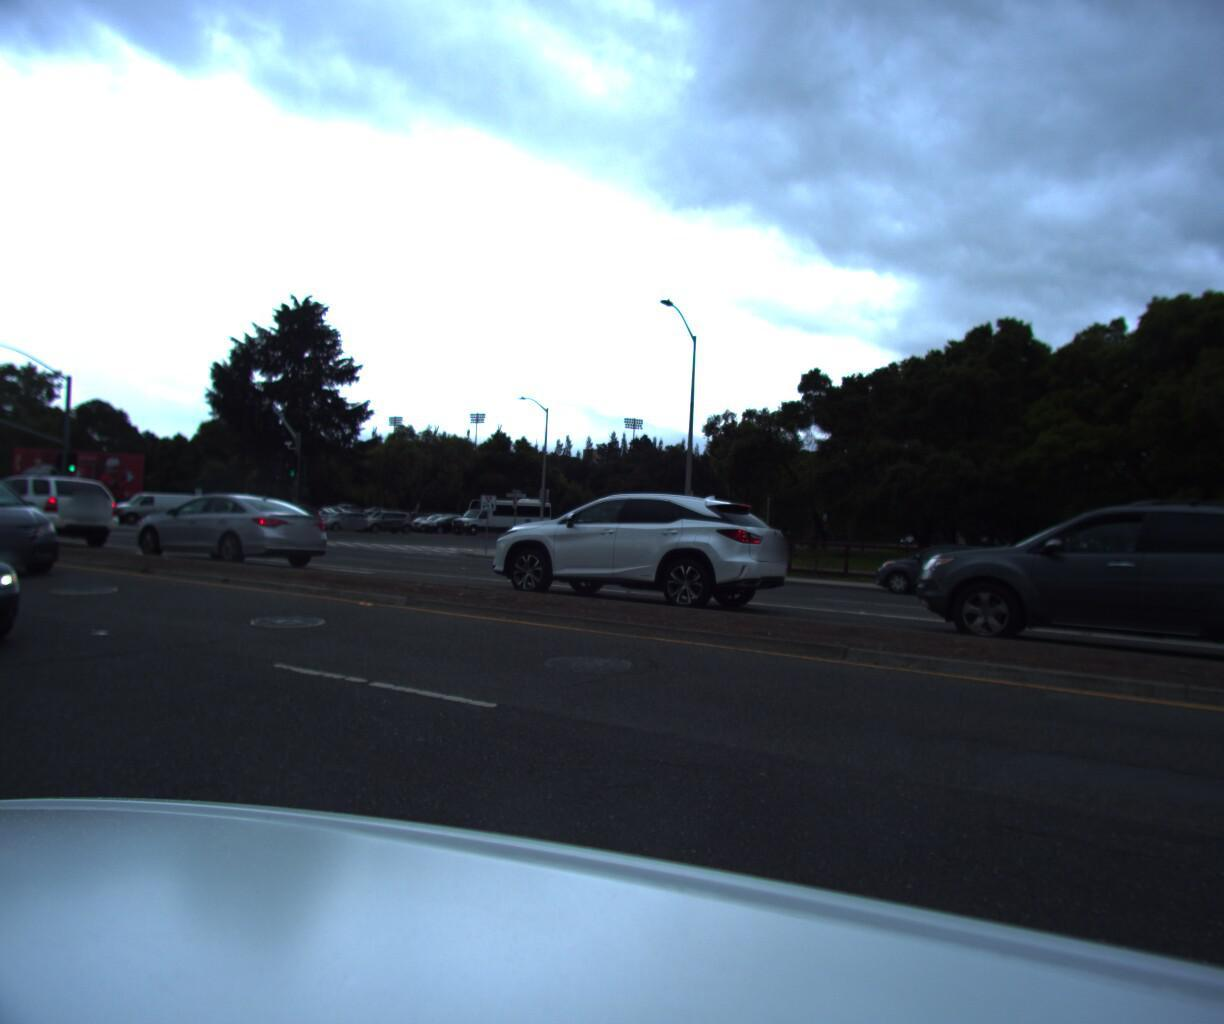car: (890, 486, 1224, 695), (466, 483, 804, 623), (119, 487, 341, 573), (0, 478, 62, 684), (864, 537, 1034, 606), (0, 469, 131, 550), (0, 457, 79, 585), (163, 491, 273, 533), (104, 490, 209, 529), (311, 510, 387, 534), (350, 509, 419, 535), (414, 515, 479, 537), (407, 514, 465, 534)
other_vehicle: (444, 492, 556, 540)
